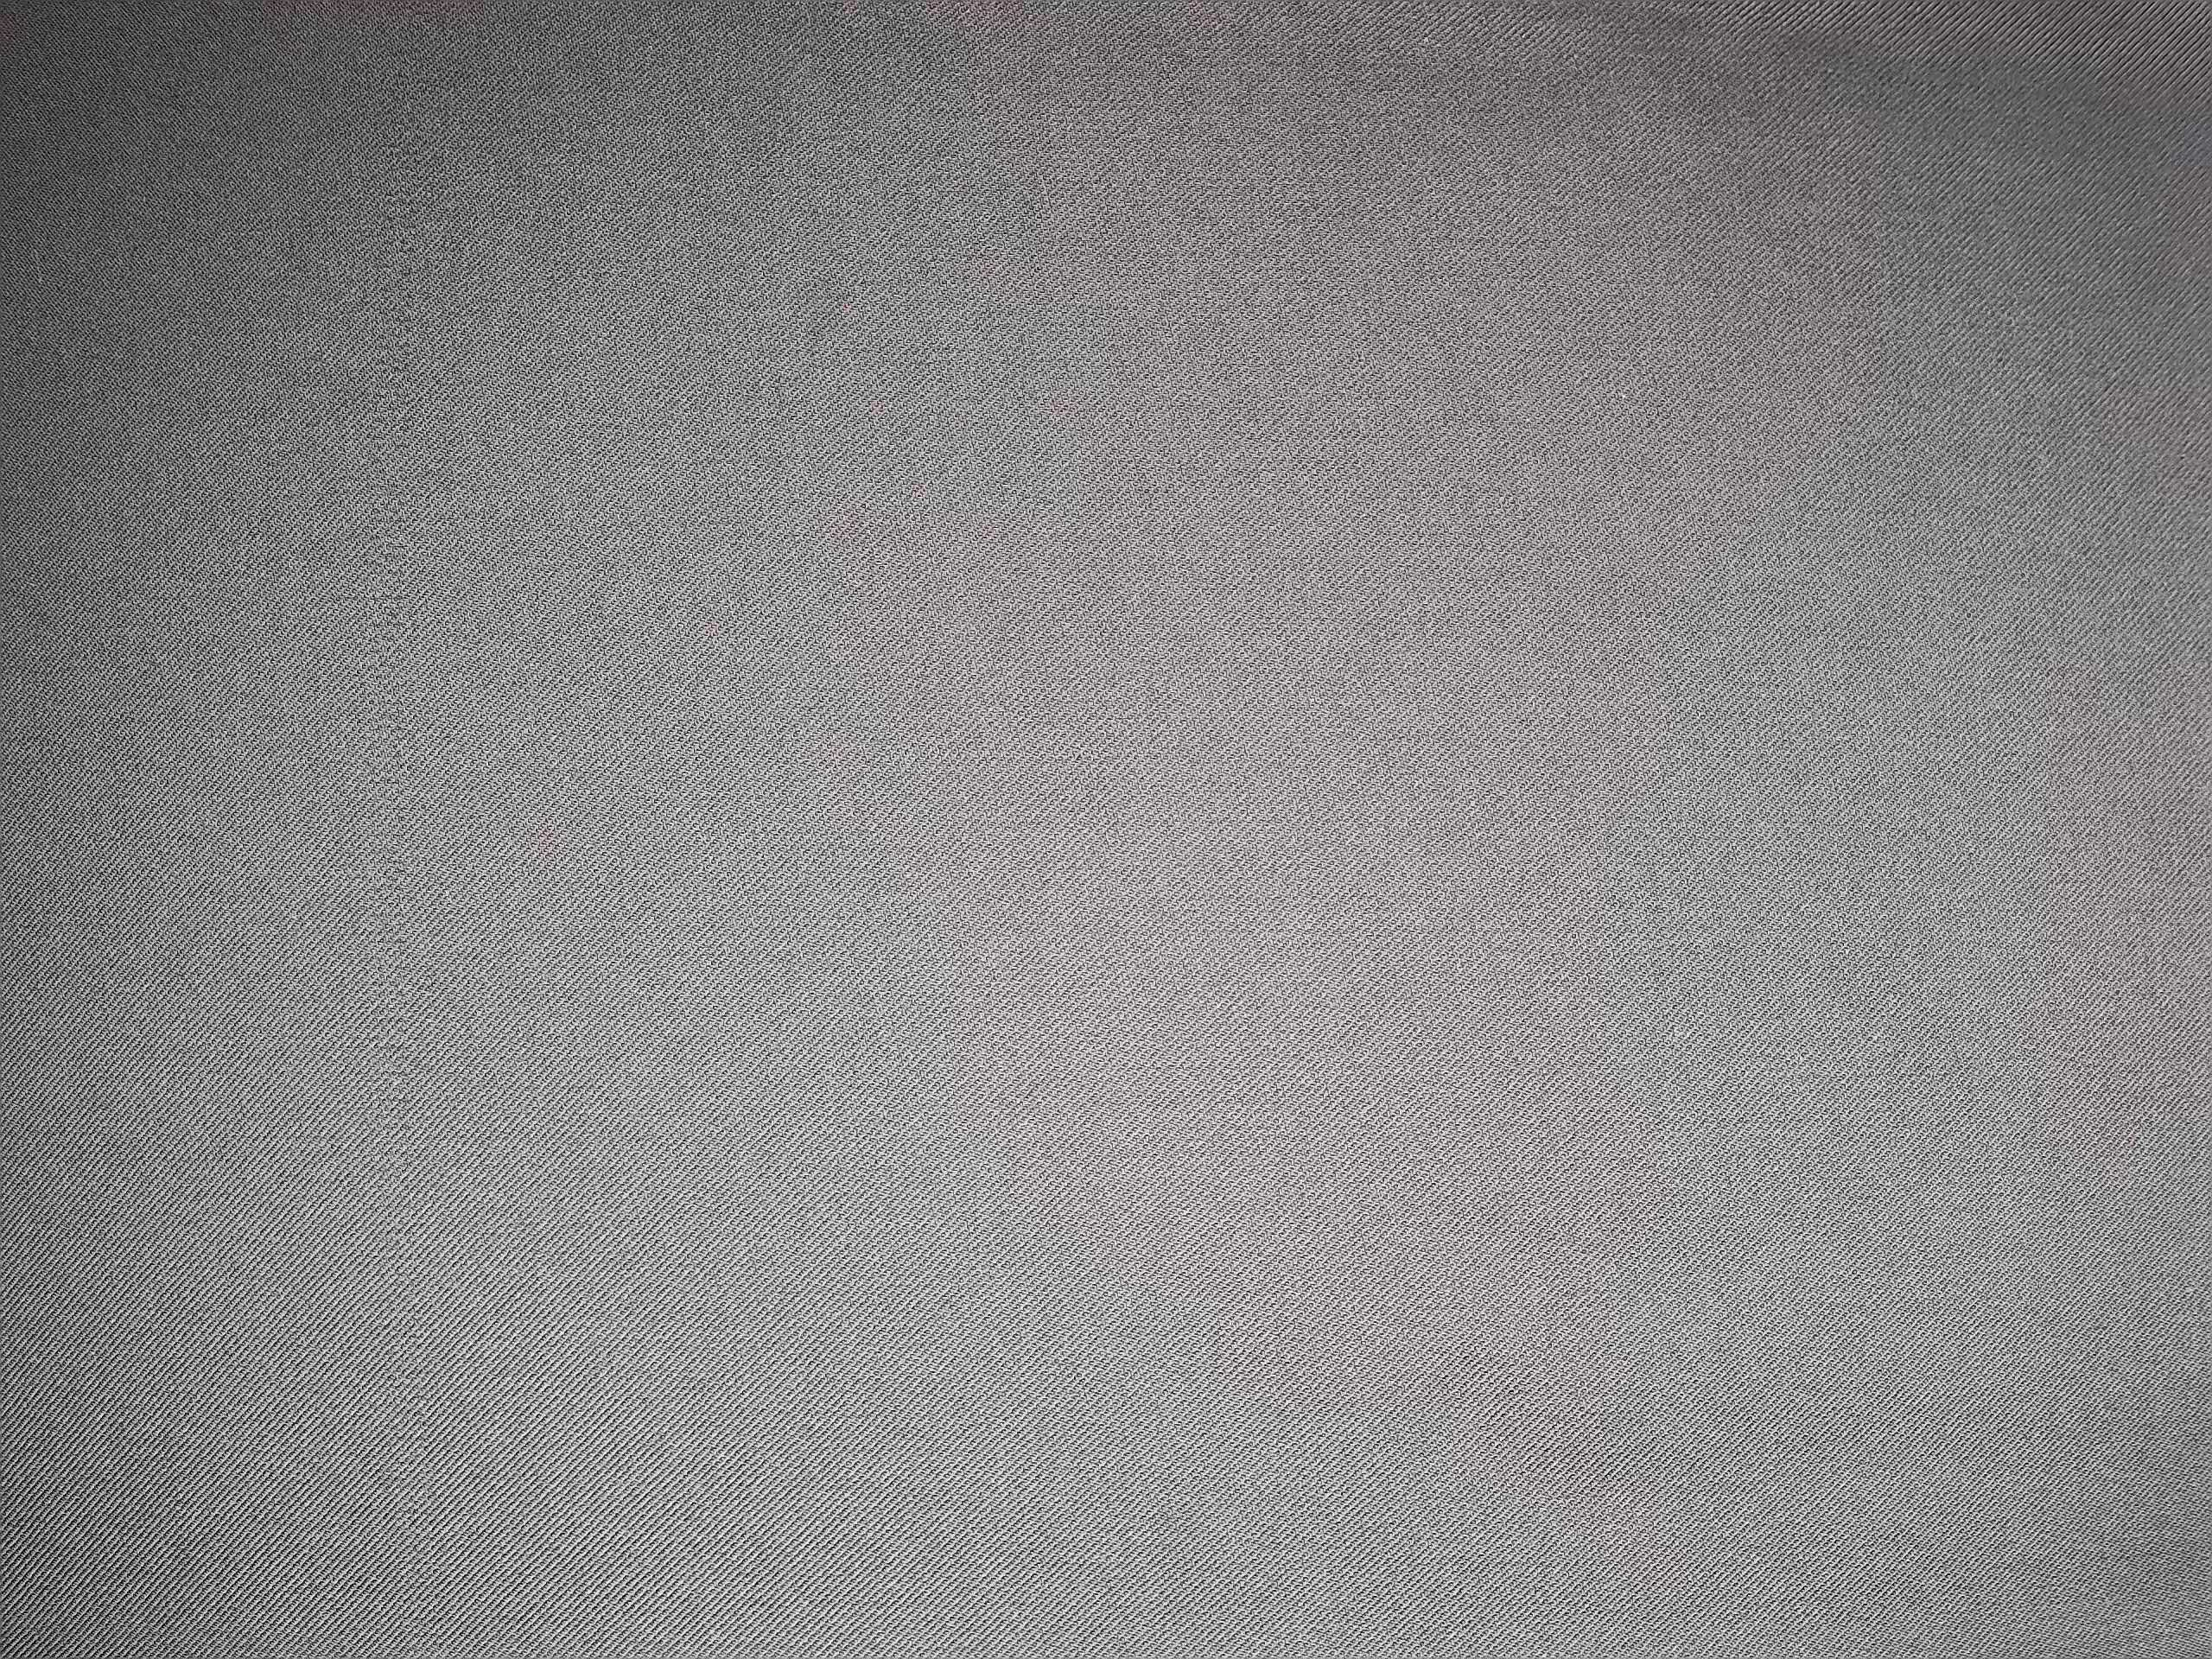hanging-warp: (359, 3, 448, 1650)
